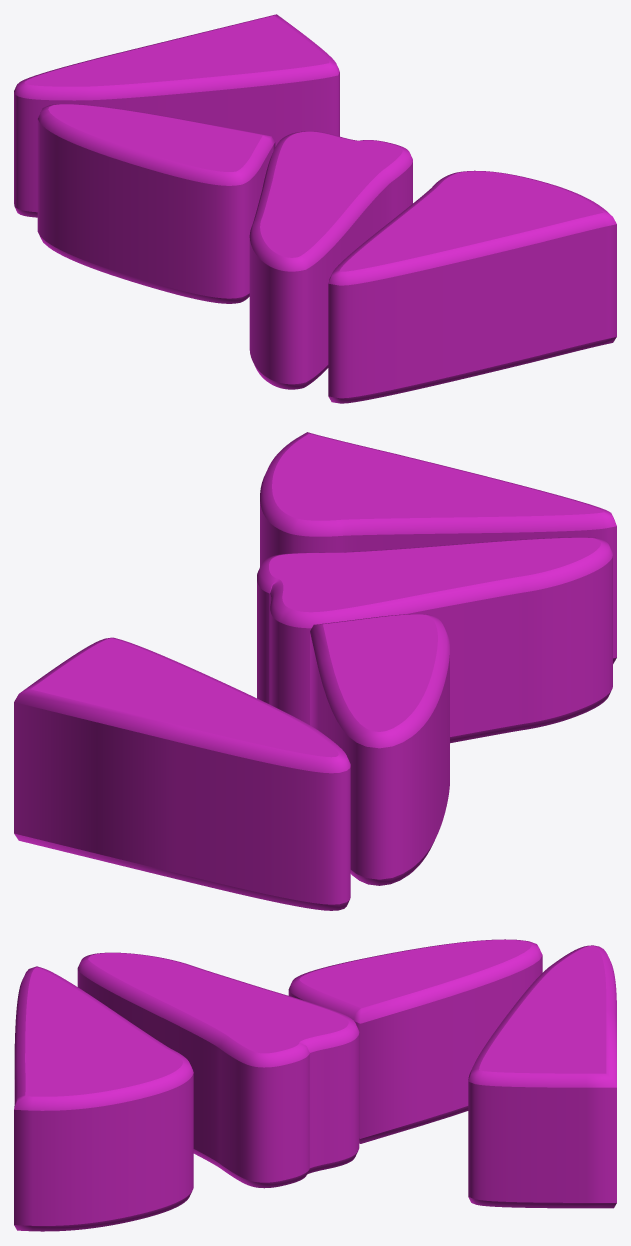
Rendered from Number_3.fbx.
The picture shows the model from 3 angles, top to bottom: view 1: azimuth 30°, elevation 25°; view 2: azimuth 150°, elevation 25°; view 3: azimuth 270°, elevation 25°; orthographic projection. The views are drawn at different scales.
Parts seen in each view (by area): view 1: Number_3; view 2: Number_3; view 3: Number_3.
Boxes of the visible parts, x1,y1,x2,y2 form: Number_3: (14, 14, 616, 403); Number_3: (14, 432, 616, 910); Number_3: (14, 939, 616, 1231).
Size of the model in its own units: 0.3706 by 0.14 by 0.5693.
